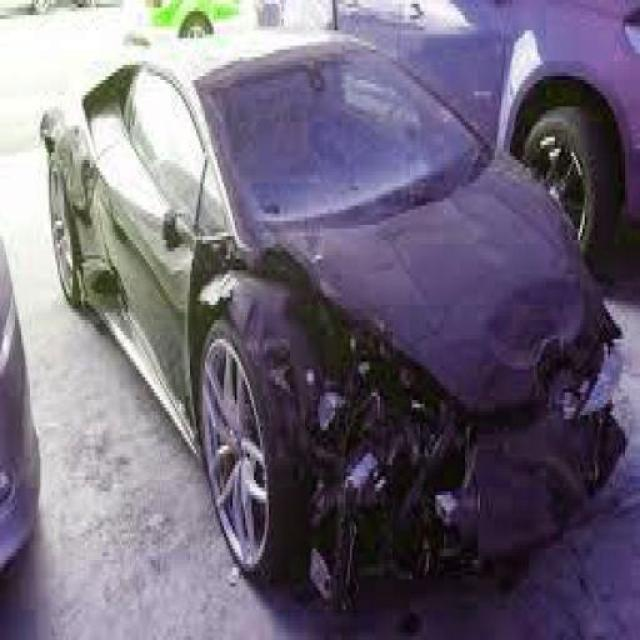car damage: (179, 213, 625, 595)
